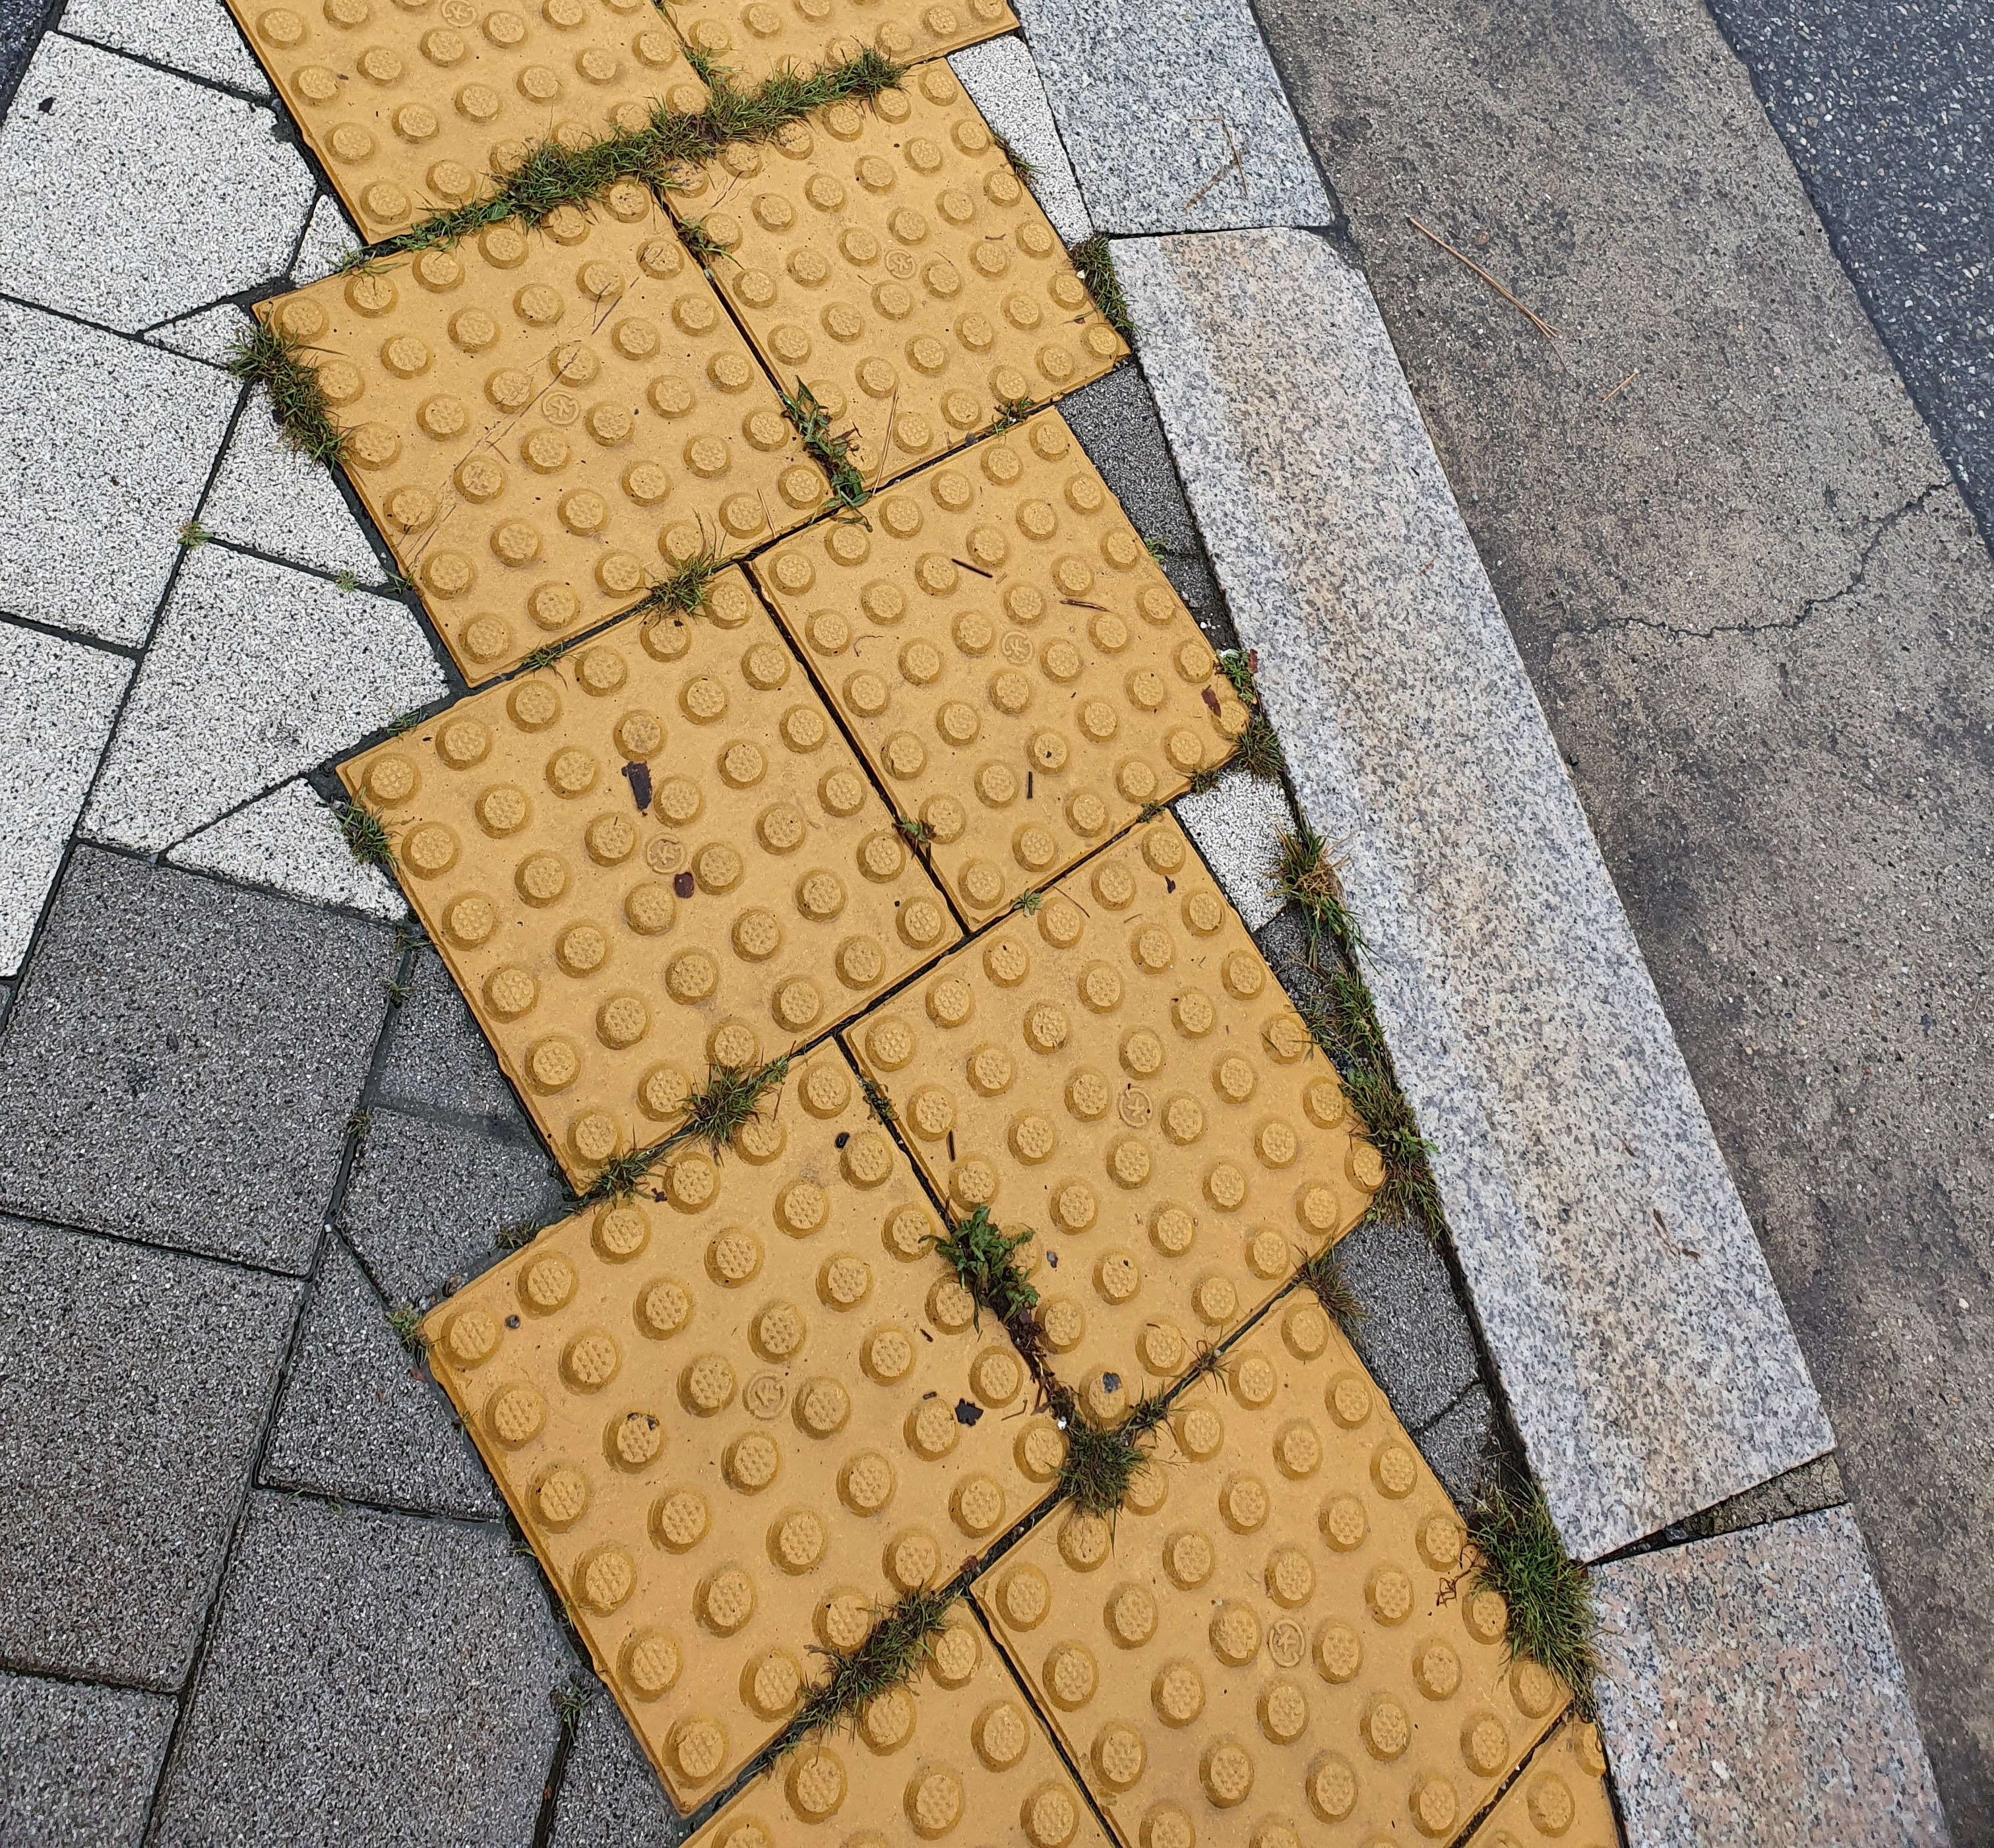warningBlock: (328, 1178, 1143, 1723), (332, 622, 974, 1129), (848, 825, 1369, 1398), (999, 1344, 1539, 1848), (702, 403, 1271, 853), (327, 189, 776, 625), (714, 80, 1139, 497)
